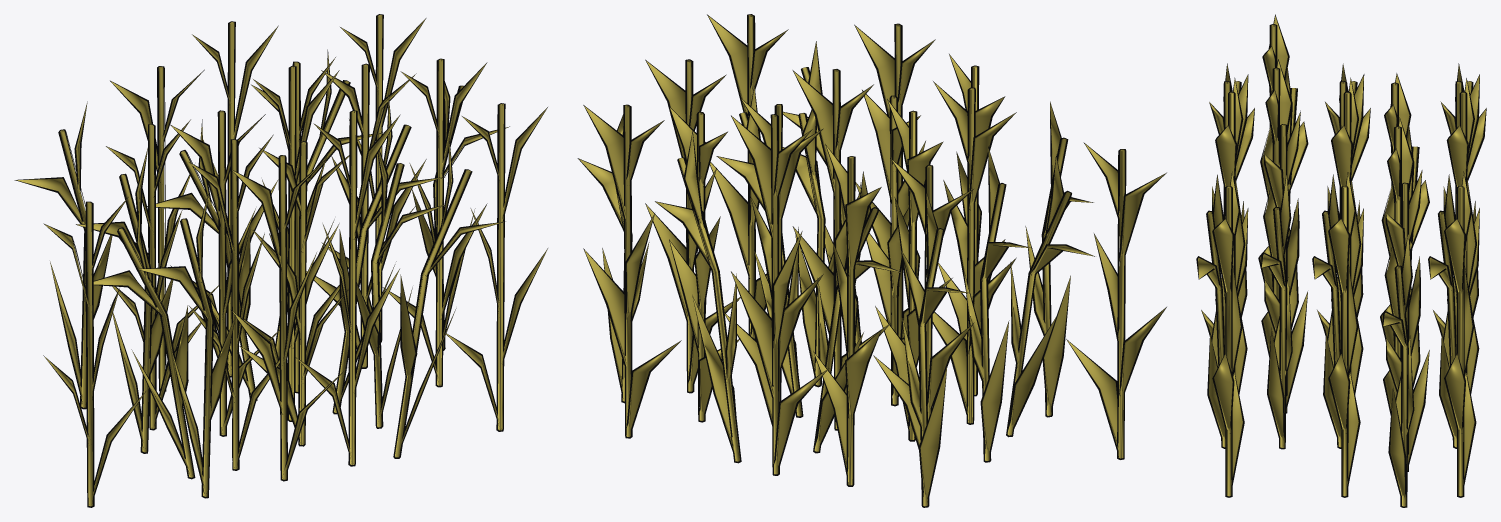
The model's file is wheatB_ol.glb.
3 views of the same model, side by side, from view 1: azimuth 30°, elevation 25°; view 2: azimuth 150°, elevation 25°; view 3: azimuth 270°, elevation 25° (orthographic). The views are drawn at different scales.
Visible parts, largest first — view 1: wheatB_ol; view 2: wheatB_ol; view 3: wheatB_ol.
Boxes of the visible parts, x1,y1,x2,y2 form: wheatB_ol: (14,14,547,507); wheatB_ol: (577,14,1166,507); wheatB_ol: (1196,14,1486,507).
Size of the model in its own units: 16.29 by 10.5 by 8.2.
